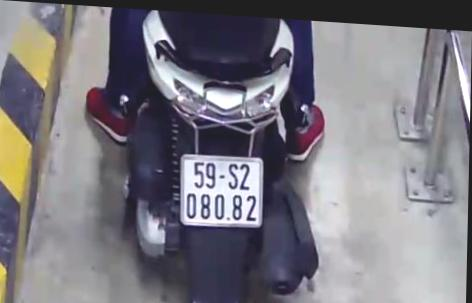License_Plate: (167, 147, 274, 231)
